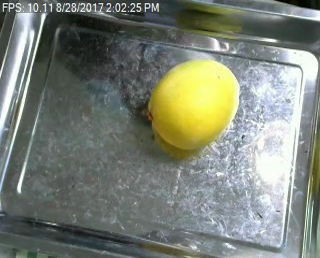Mango: (145, 58, 242, 150)
